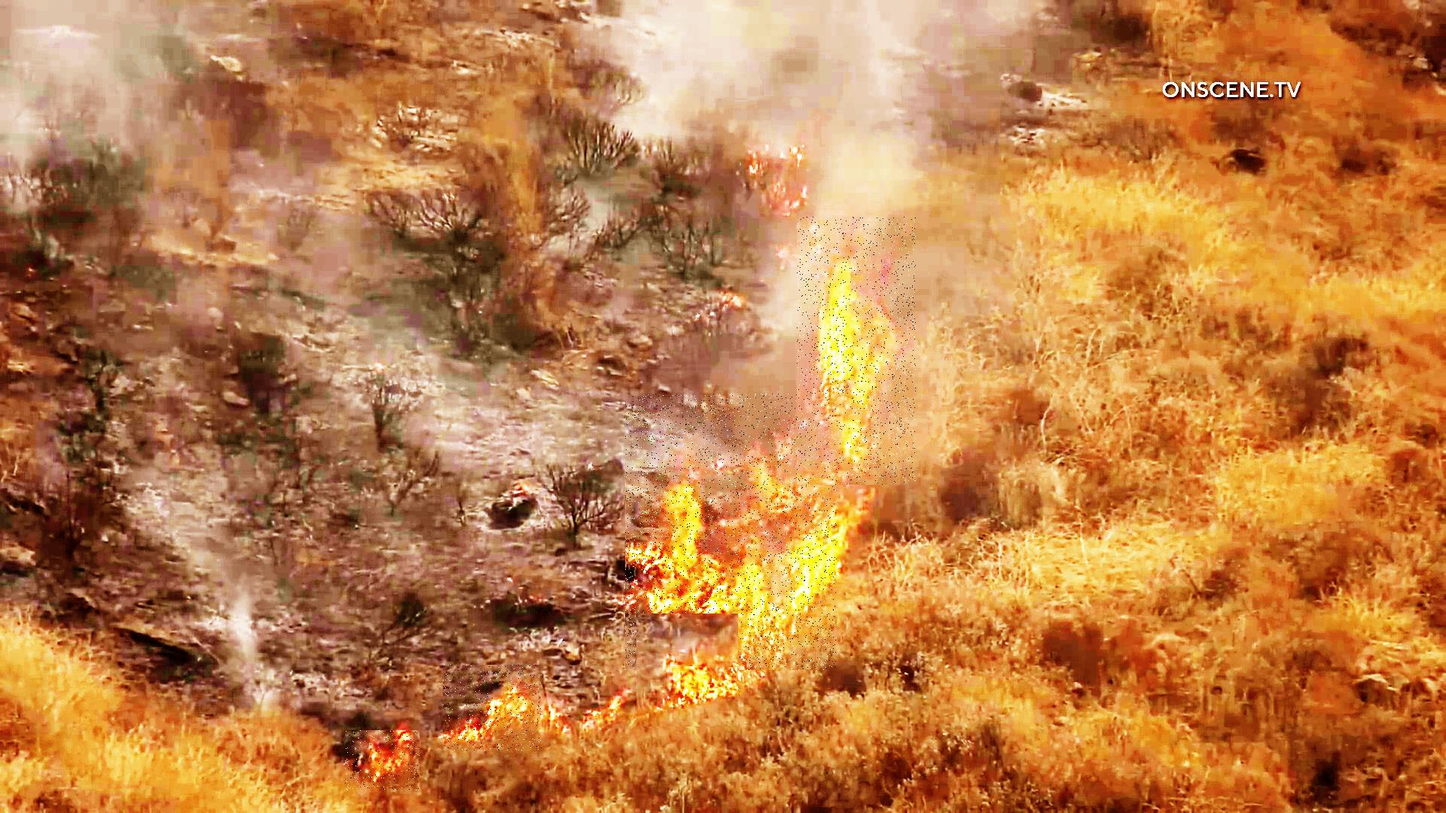fire: (625, 394, 837, 670), (798, 217, 917, 485), (637, 614, 740, 729), (443, 665, 542, 751), (345, 731, 420, 792)
